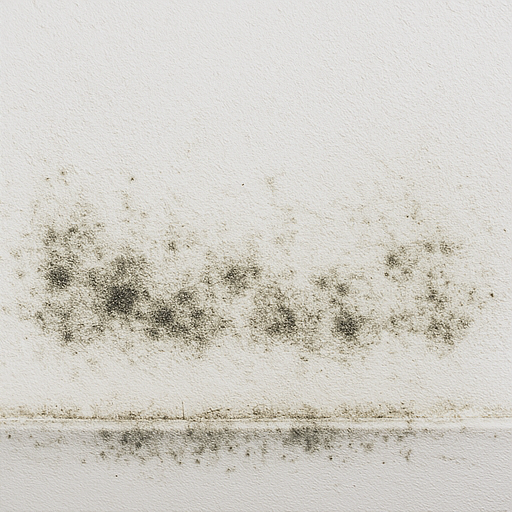schimmel: (50, 254, 466, 351), (101, 432, 232, 456), (279, 425, 354, 453)
